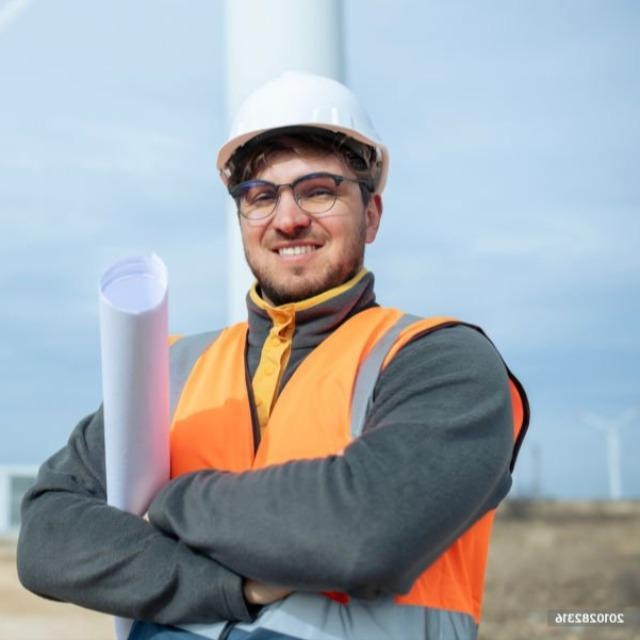Con_Chaleco: (152, 303, 507, 640)
Sin_Casco_Mascarrilla: (215, 74, 389, 292)
